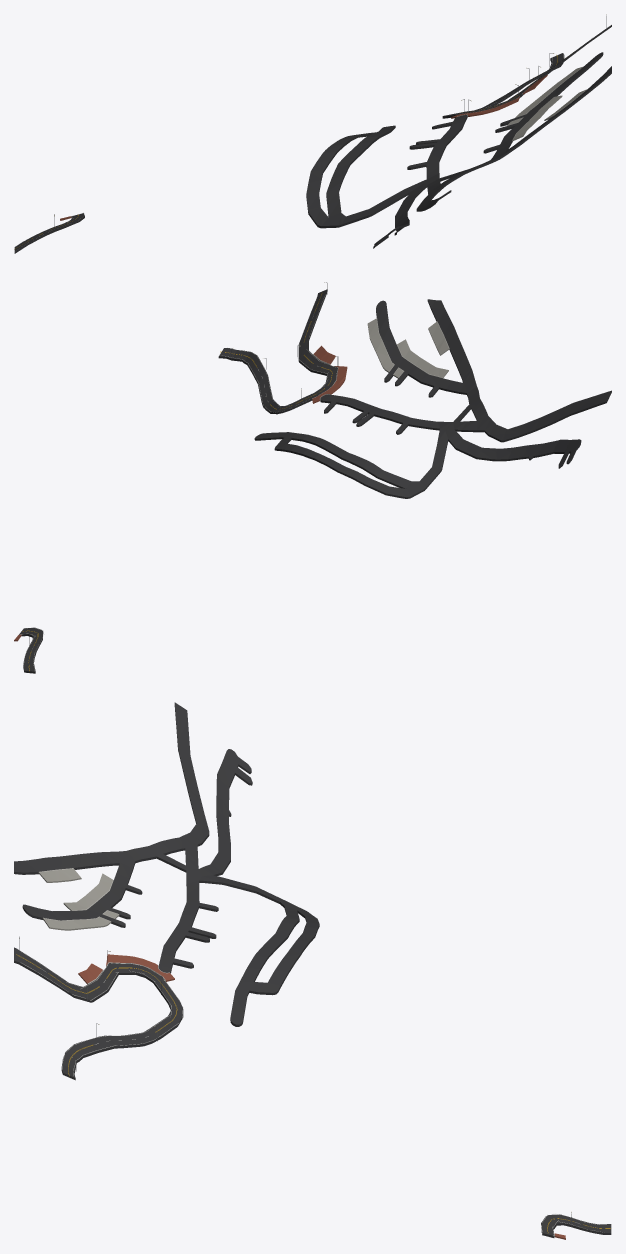
3 views of the same model, one above another, from view 1: azimuth 90°, elevation 25°; view 2: azimuth 150°, elevation 25°; view 3: azimuth 270°, elevation 25° (orthographic). The views are drawn at different scales.
Bounding box in the file's own units: 295 × 160 × 292.
